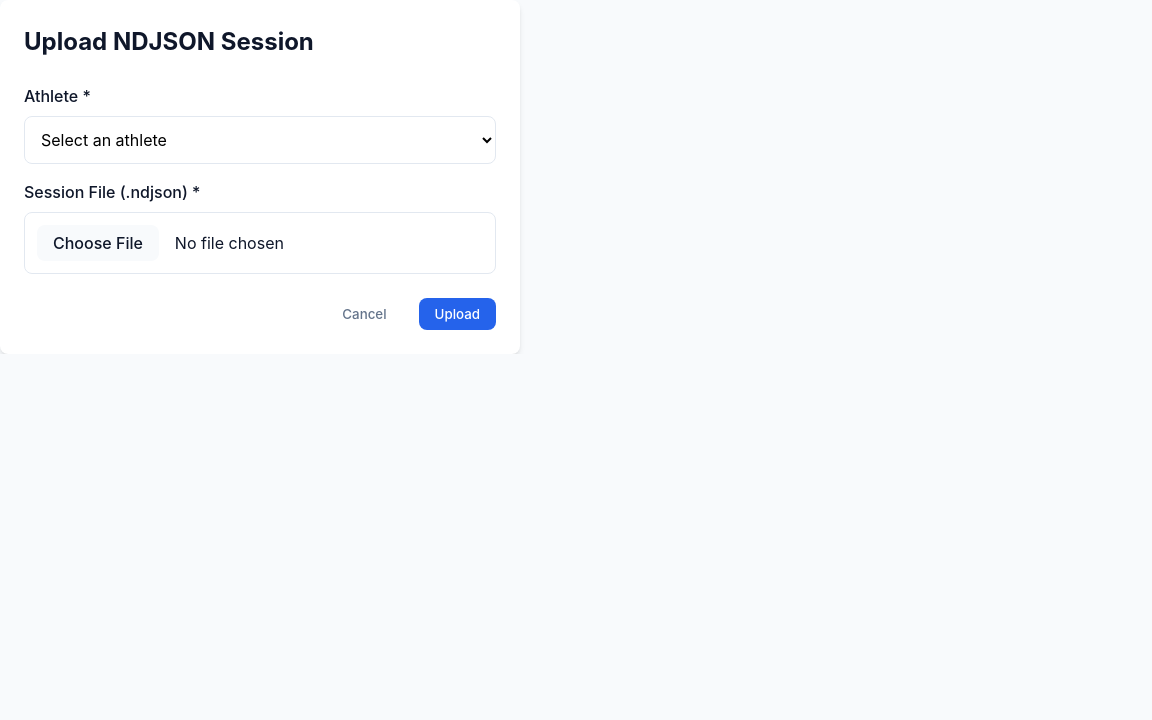
Test: NdjsonUploadModal › shows validation error if no file selected
Select "Alice" in the dropdown labelled "Athlete *". click: point(260, 140)
box: [24, 116, 496, 164]
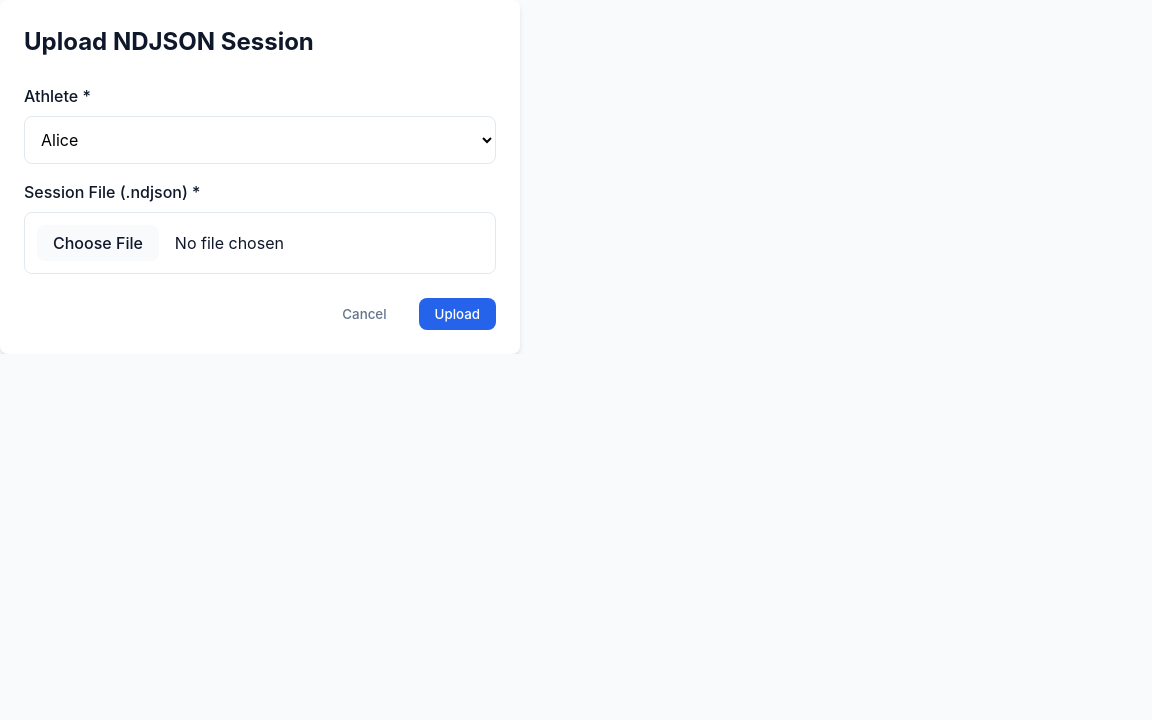
Click the button "Upload". click: point(457, 314)
box: [418, 298, 496, 330]
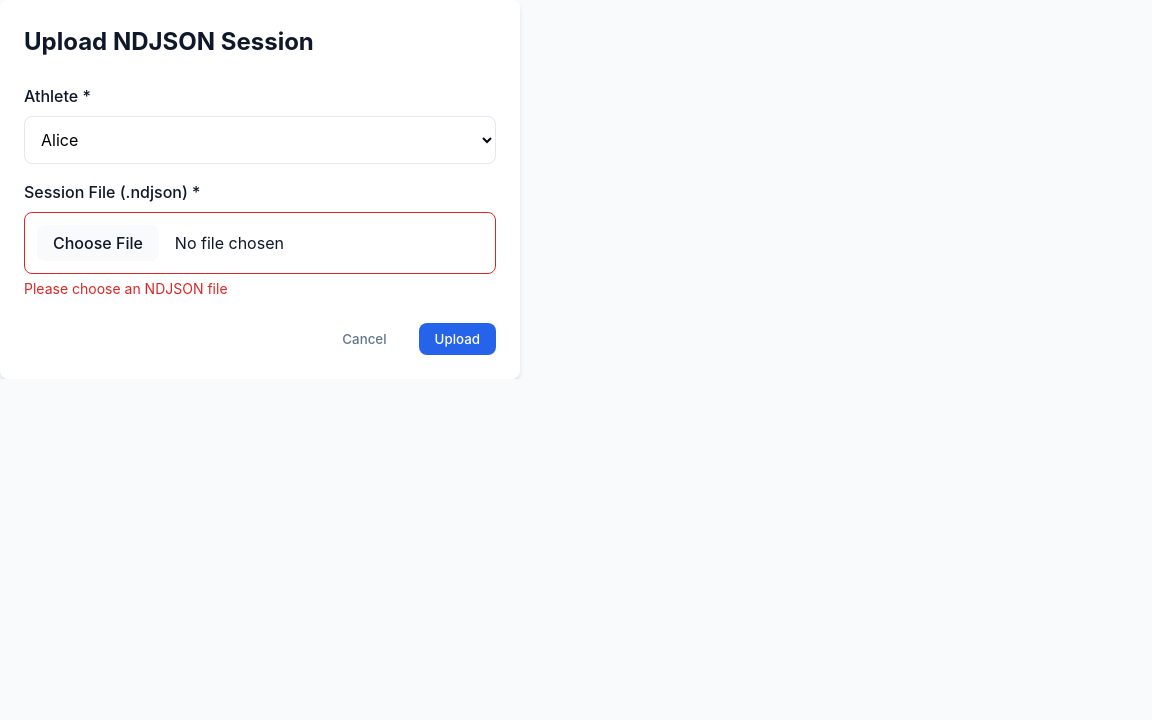
Now the text "Please choose an NDJSON file" is shown, box [24, 280, 228, 297]
